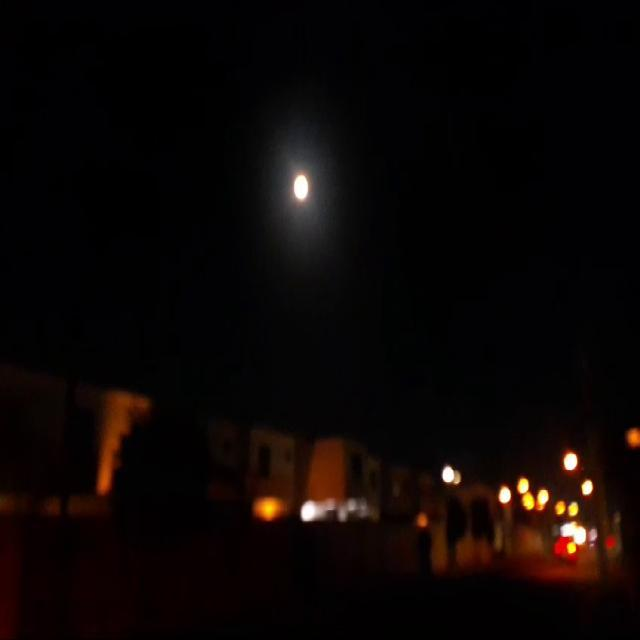moon: (291, 173, 311, 207)
